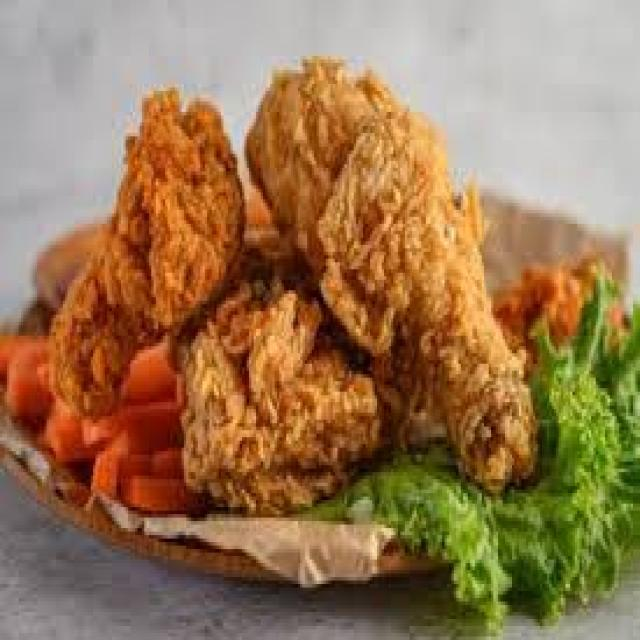Frango: (247, 66, 535, 482), (186, 199, 486, 511), (49, 95, 244, 423)
